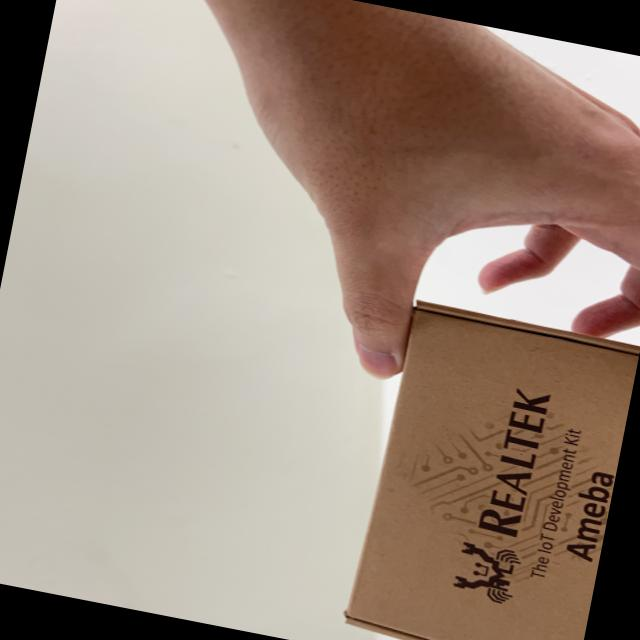box: (332, 289, 640, 640)
